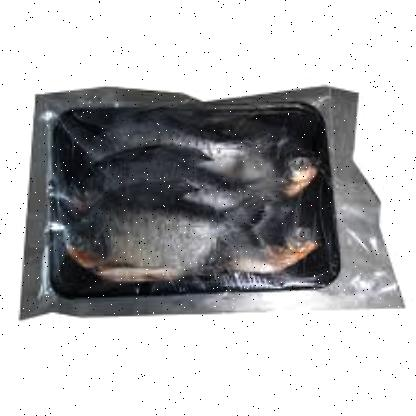ikan-pacu: (62, 197, 232, 275)
